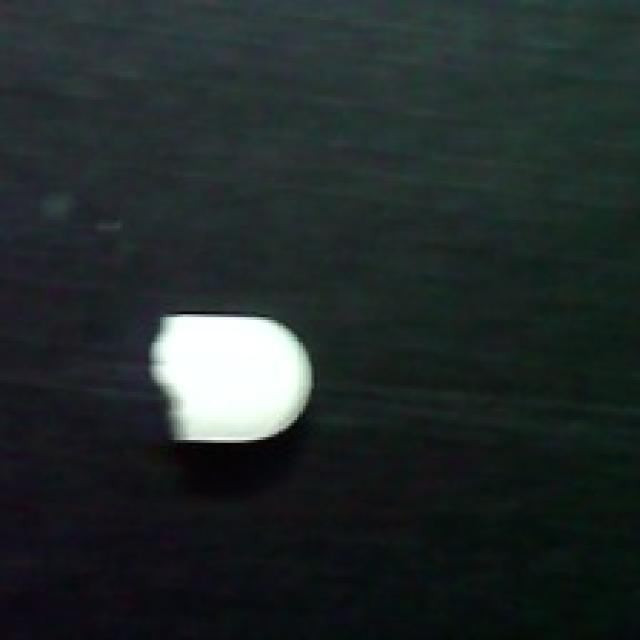defected: (146, 300, 320, 451)
